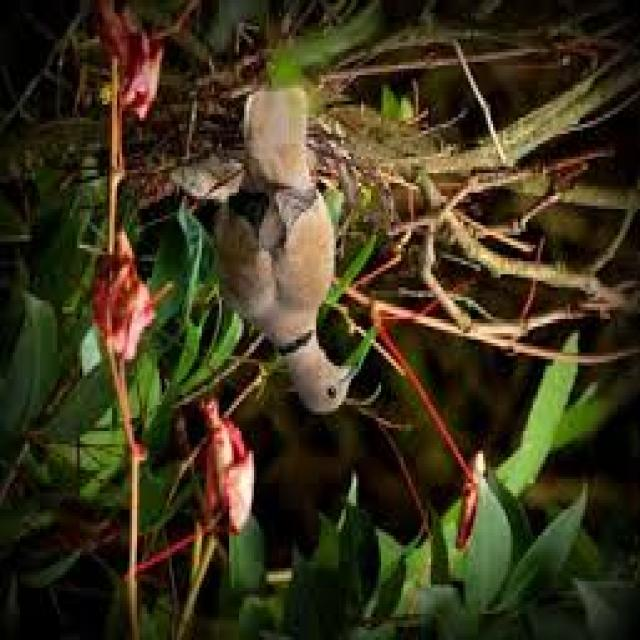pigeon: (208, 83, 364, 440)
